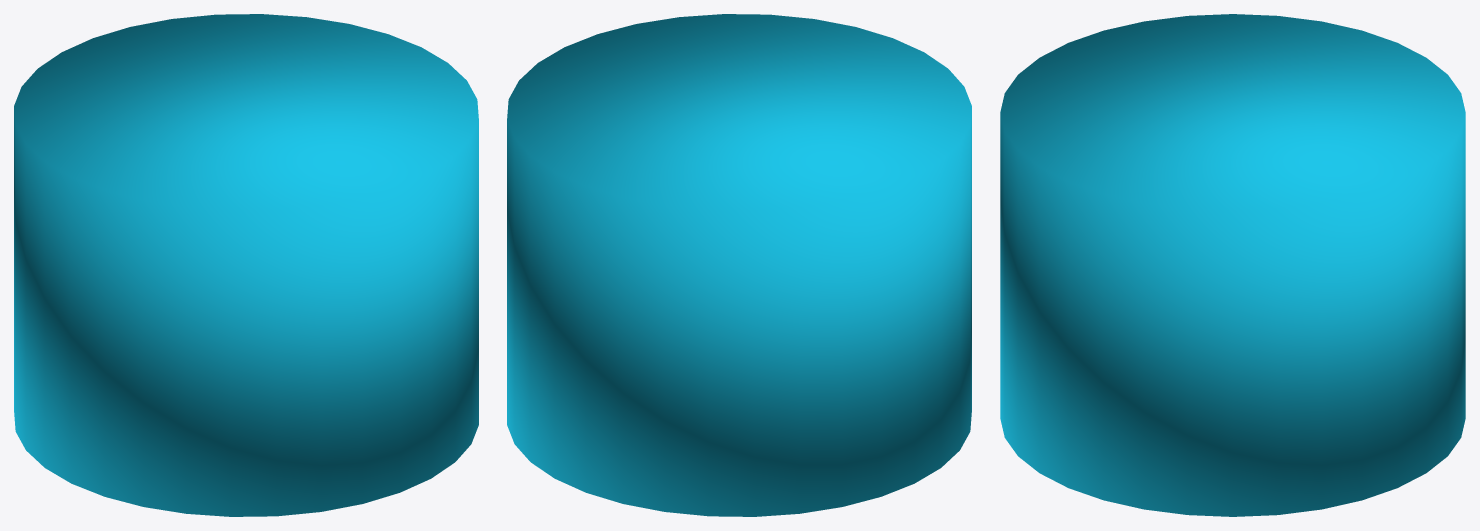
The model's file is vox_cave_elevator01_12x12x8_ovr.fbx.
3 renders of one model, left to right at view 1: azimuth 30°, elevation 25°; view 2: azimuth 150°, elevation 25°; view 3: azimuth 270°, elevation 25°, orthographic.
Parts seen in each view (by area): view 1: vox_cave_elevator01_12x12x8_ovr; view 2: vox_cave_elevator01_12x12x8_ovr; view 3: vox_cave_elevator01_12x12x8_ovr.
Boxes of the visible parts, x1,y1,x2,y2 form: vox_cave_elevator01_12x12x8_ovr: (14, 14, 478, 516); vox_cave_elevator01_12x12x8_ovr: (507, 14, 971, 516); vox_cave_elevator01_12x12x8_ovr: (1000, 14, 1465, 516).
Size of the model in its own units: 740 by 538 by 740.
